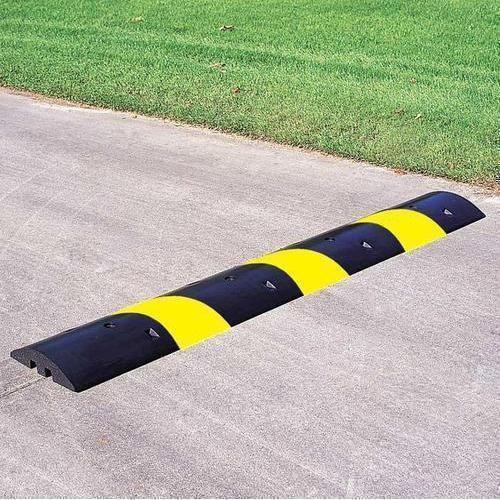speedbreaker: (13, 184, 486, 387)
